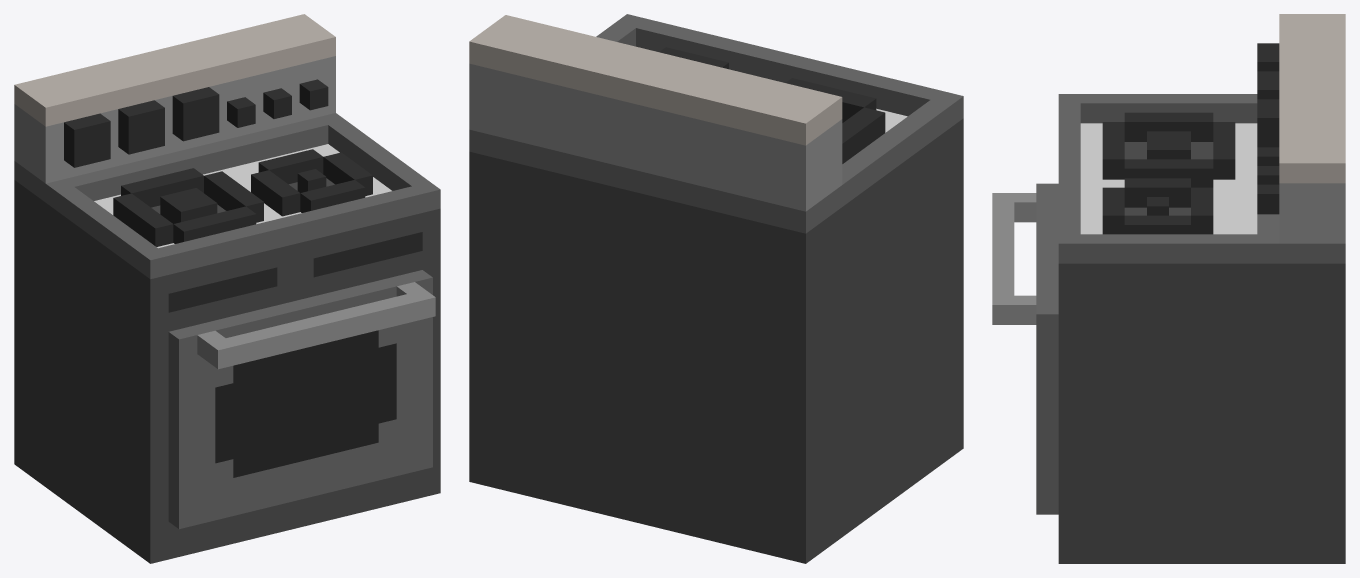
Rendered from Stove.obj.
3 views of the same model, side by side, from view 1: azimuth 30°, elevation 25°; view 2: azimuth 150°, elevation 25°; view 3: azimuth 270°, elevation 25° (orthographic). The views are drawn at different scales.
Visible parts, largest first — view 1: Stove; view 2: Stove; view 3: Stove.
Boxes of the visible parts, <box> form: Stove: <box>14,14,440,563</box>; Stove: <box>469,14,963,563</box>; Stove: <box>992,14,1345,563</box>.
Size of the model in its own units: 16 by 20 by 16.
Materials: 1 (1 with a texture image).
